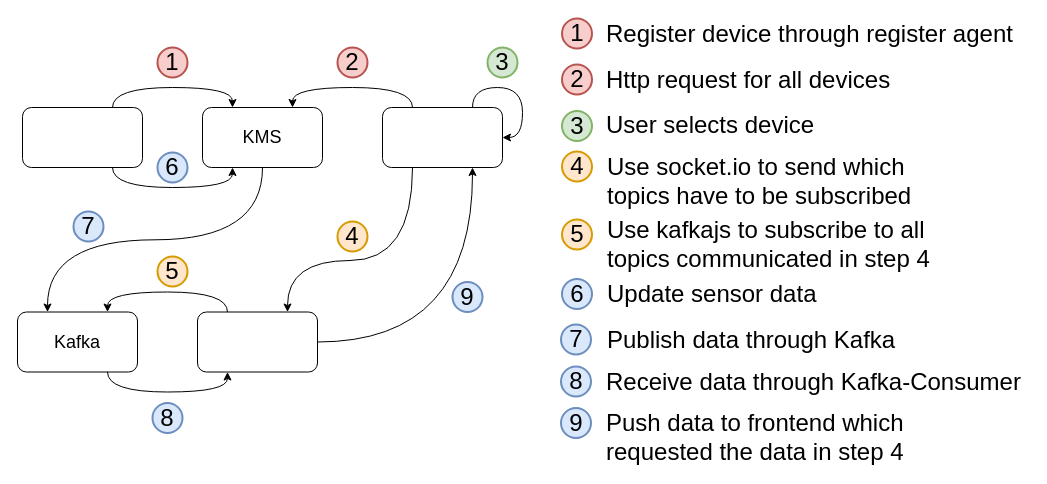
The diagram is 1047 pixels wide and 484 high, and some of its shapes have lost their labels. Here are the shapes that lost their labels. From the top down, the centre of each, then its label:
[82,137]: Device
[442,137]: MM-APP
[257,341]: MM-App backend
